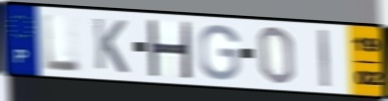0: (256, 25, 297, 87)
G: (196, 22, 242, 82)
H: (145, 18, 193, 81)
I: (317, 28, 332, 90)
K: (91, 15, 131, 75)
L: (41, 12, 83, 73)
